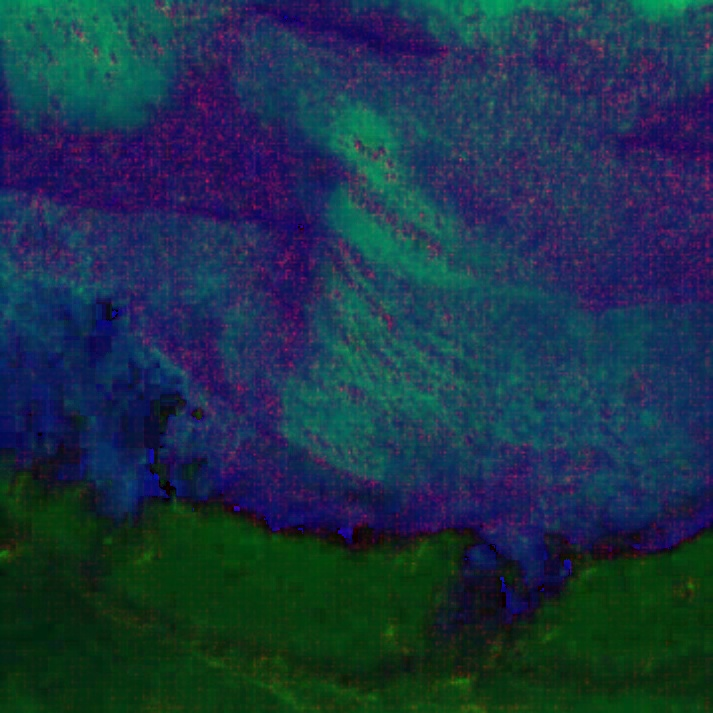rip_current: (211, 18, 528, 465)
